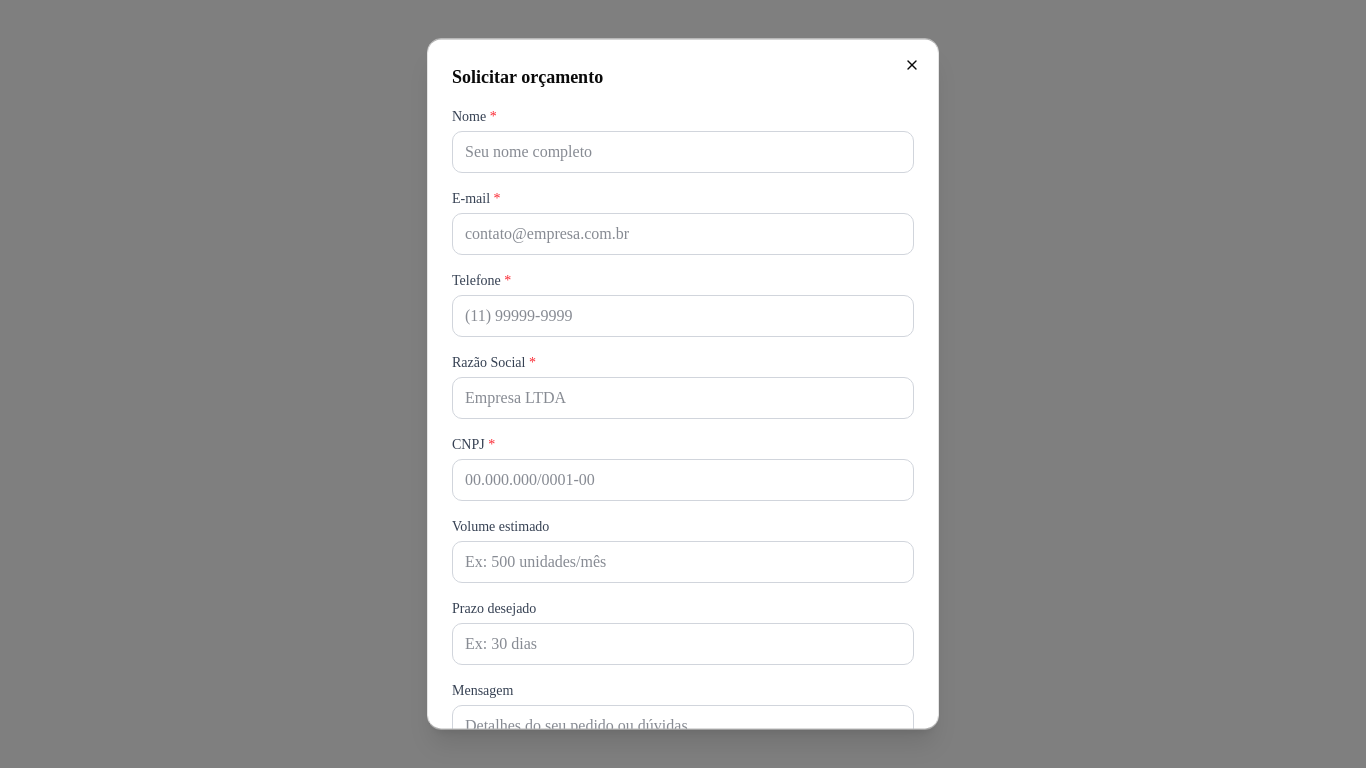
LeadAtacadoModal › aplica máscara de CNPJ ao digitar
Type "11222333000181" into the field with test id "cnpj-input". click: (683, 480)
box: [452, 459, 914, 501]
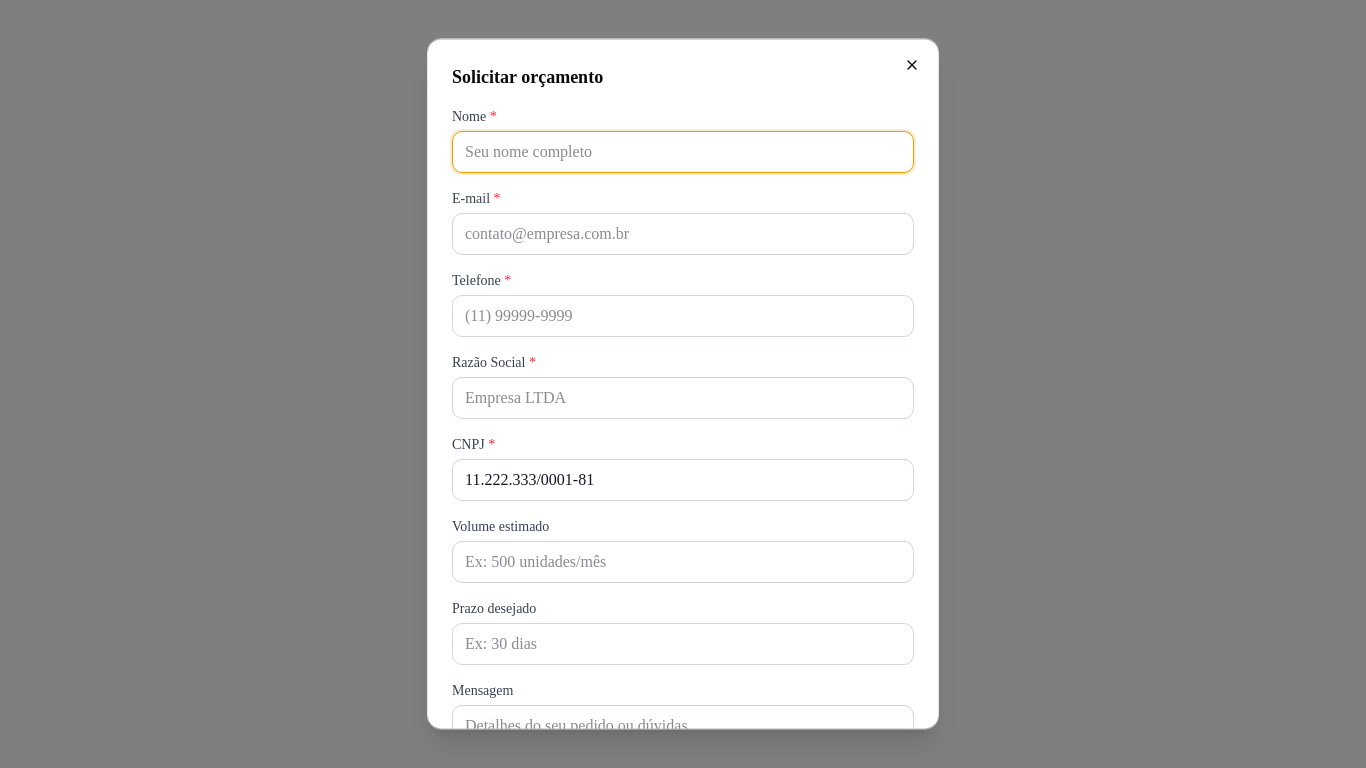
Expected: the field with test id "cnpj-input" holds "11.222.333/0001-81", [452, 459, 914, 501]
